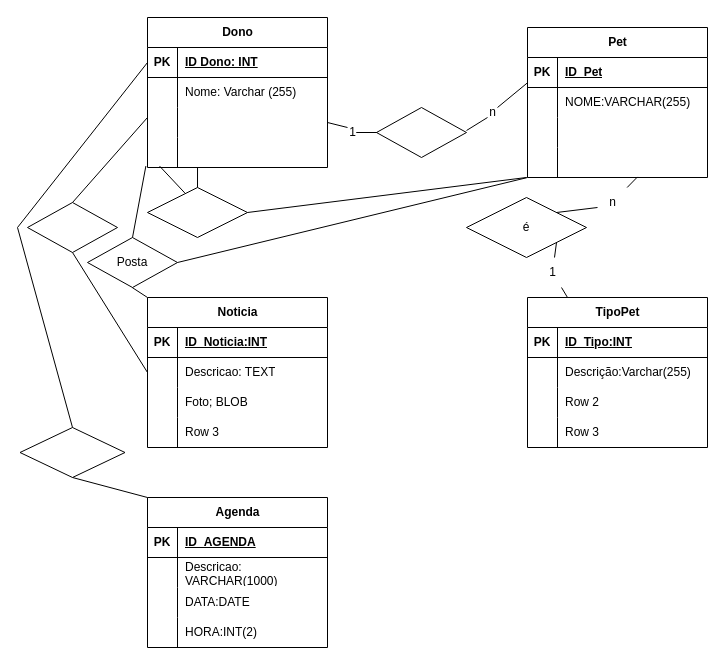
This 725x665 diagram has some shape labels left out. Here are the shapes that lost their labels. From the top down, the centre of each, then its label:
[421,132]: tem
[72,227]: Curtida
[197,212]: Amigo
[72,452]: Registra
